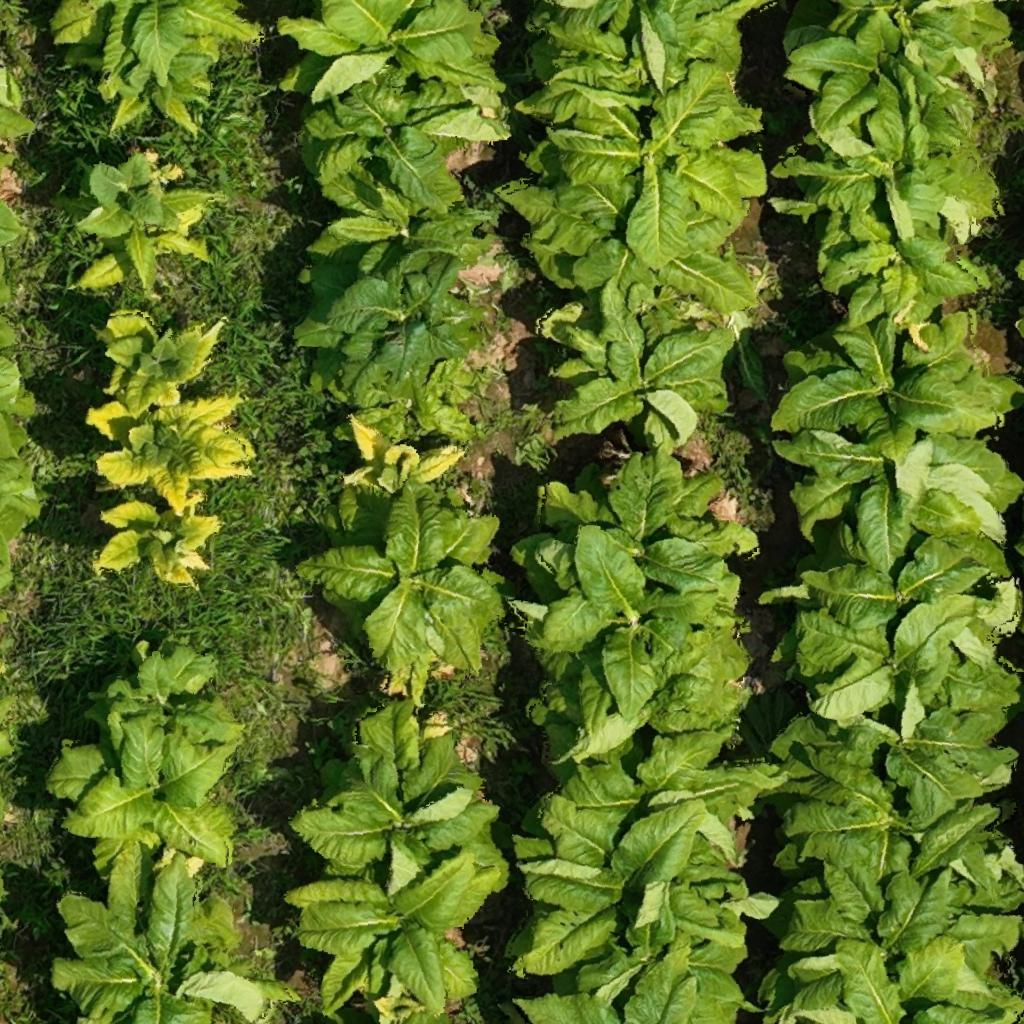disease: (54, 153, 224, 294), (74, 398, 262, 513), (75, 310, 219, 412), (88, 498, 230, 592), (328, 412, 468, 494)
healthy: (294, 494, 502, 696), (36, 862, 282, 1023), (504, 552, 764, 704), (281, 714, 512, 879), (517, 828, 772, 970), (780, 1, 1012, 153), (762, 320, 1014, 458), (516, 77, 776, 206), (285, 868, 501, 1022), (514, 307, 742, 447), (514, 468, 763, 593), (515, 190, 765, 312), (776, 608, 1019, 732), (770, 435, 1020, 555), (518, 734, 778, 848), (40, 2, 262, 134), (770, 118, 1010, 240), (38, 728, 258, 860), (285, 276, 484, 413), (776, 714, 1020, 824), (272, 93, 494, 212), (790, 214, 1000, 330), (274, 7, 518, 106), (770, 534, 1023, 626), (782, 791, 1018, 889), (85, 652, 247, 778), (779, 941, 1022, 1023), (774, 868, 1020, 946), (300, 202, 519, 284), (527, 0, 757, 78), (506, 964, 770, 1022)
